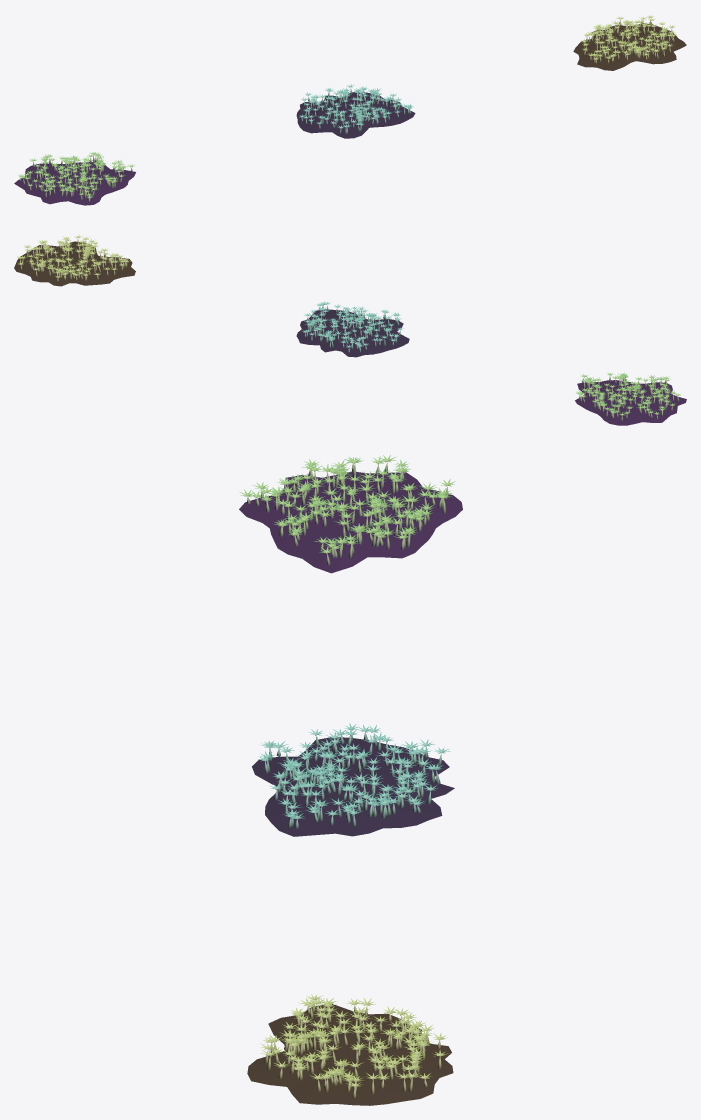
3 renders of one model, top to bottom at view 1: azimuth 30°, elevation 25°; view 2: azimuth 150°, elevation 25°; view 3: azimuth 270°, elevation 25°, orthographic. The views are drawn at different scales.
Visible parts, largest first — view 1: star-polyps-0, star-polyps-1, star-polyps-2; view 2: star-polyps-1, star-polyps-0, star-polyps-2; view 3: star-polyps-0, star-polyps-1, star-polyps-2.
Part boxes in pixels (bbox=[...]): star-polyps-0: bbox=[14, 152, 135, 205]; star-polyps-1: bbox=[296, 84, 415, 138]; star-polyps-2: bbox=[573, 15, 686, 70]; star-polyps-1: bbox=[296, 301, 409, 357]; star-polyps-0: bbox=[575, 372, 686, 425]; star-polyps-2: bbox=[14, 235, 135, 286]; star-polyps-0: bbox=[239, 455, 462, 573]; star-polyps-1: bbox=[252, 723, 454, 836]; star-polyps-2: bbox=[247, 994, 453, 1105].
Bounding box in the file's own units: 0.7024 × 0.0111 × 0.1053.
